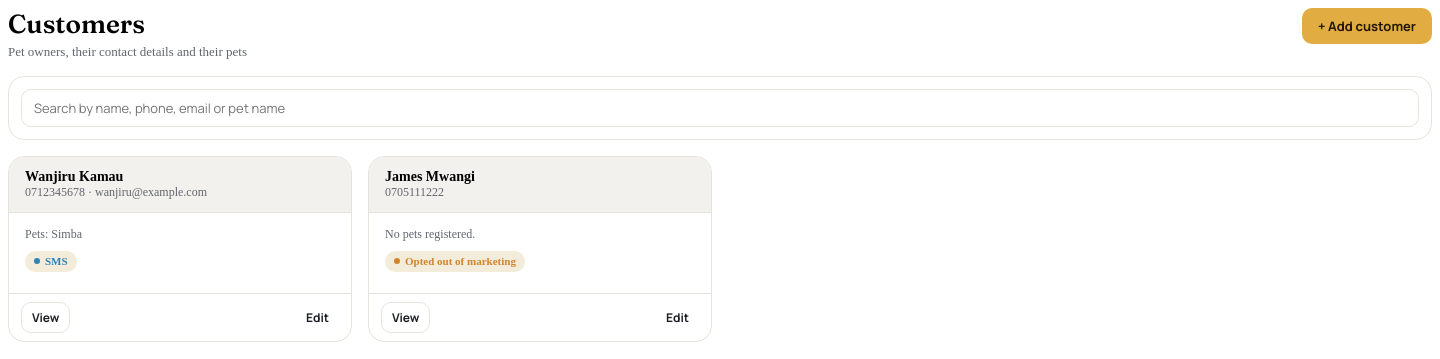
CustomersPage › searches by pet name
Expected: the text "Wanjiru Kamau" is shown, [25,169,123,184]
Type "simba" into the field named "Search customers" at (720, 108), box [21,89,1419,127]
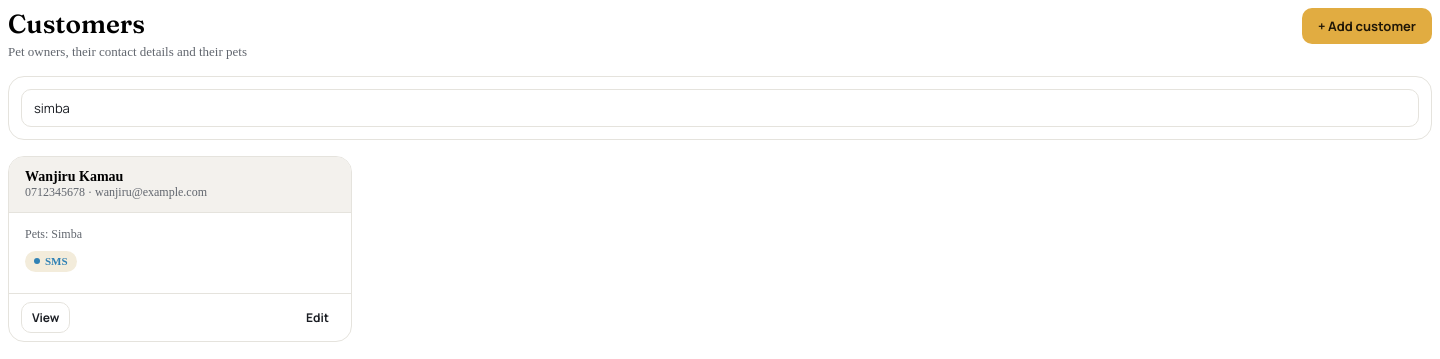
Expected: the text "Wanjiru Kamau" is shown, [25,169,123,184]
Now the text "James Mwangi" is gone
